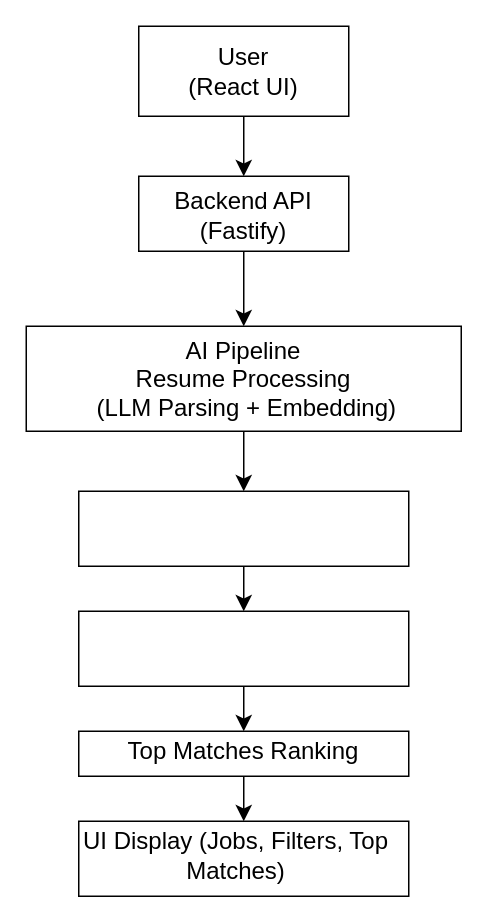
Image size: 488x923. Some labels were removed from this diagram. Each missing label, with the centre of its shape:
"AI Matching Engine (Embeddings + ScoringLogic)" belongs at pixel 243 648.
"Job Fetch (Adzuna API)" belongs at pixel 243 528.
